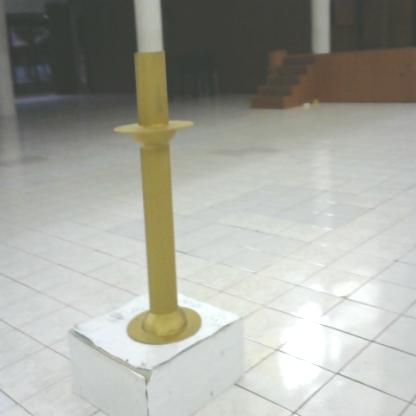pole: (110, 36, 207, 358)
